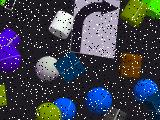Right: (70, 0, 120, 58)
